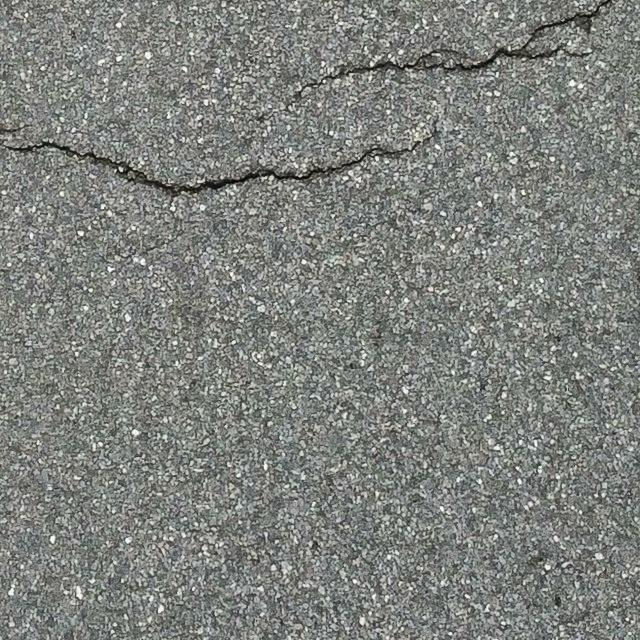TransverseCrack: (256, 1, 612, 121), (1, 114, 444, 201)
